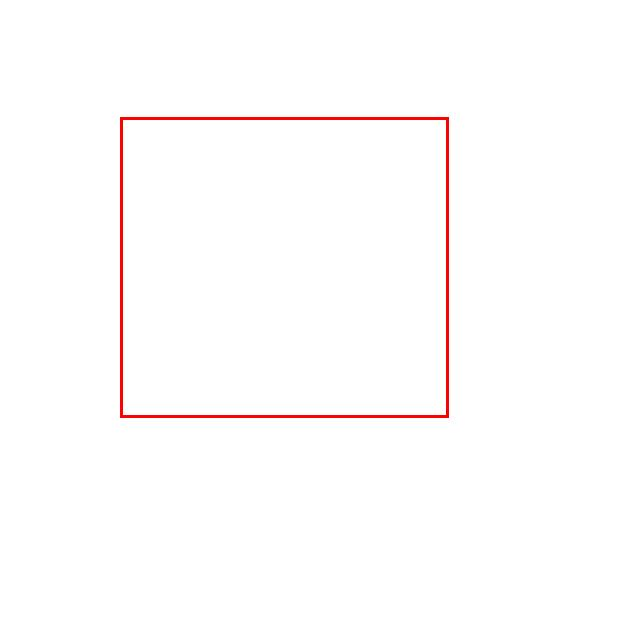CocaCola: (120, 117, 448, 417)
